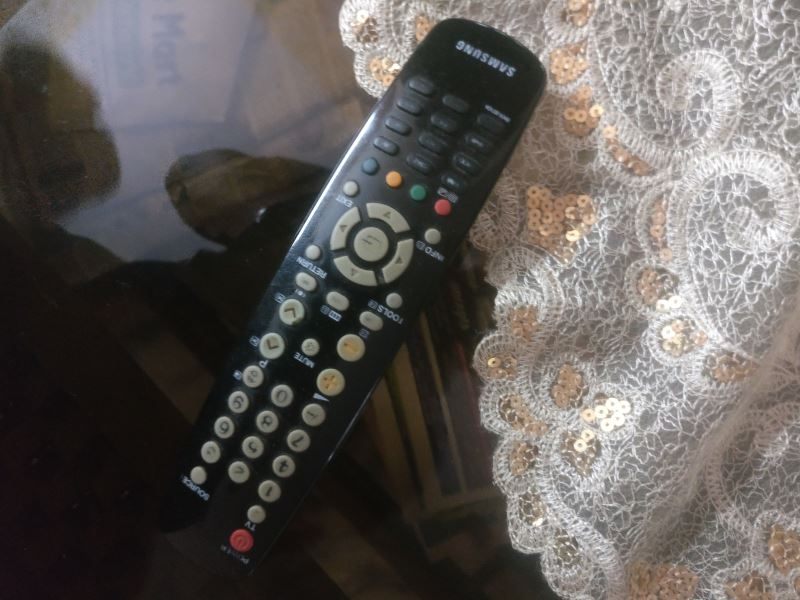tv remote: (156, 22, 548, 580)
